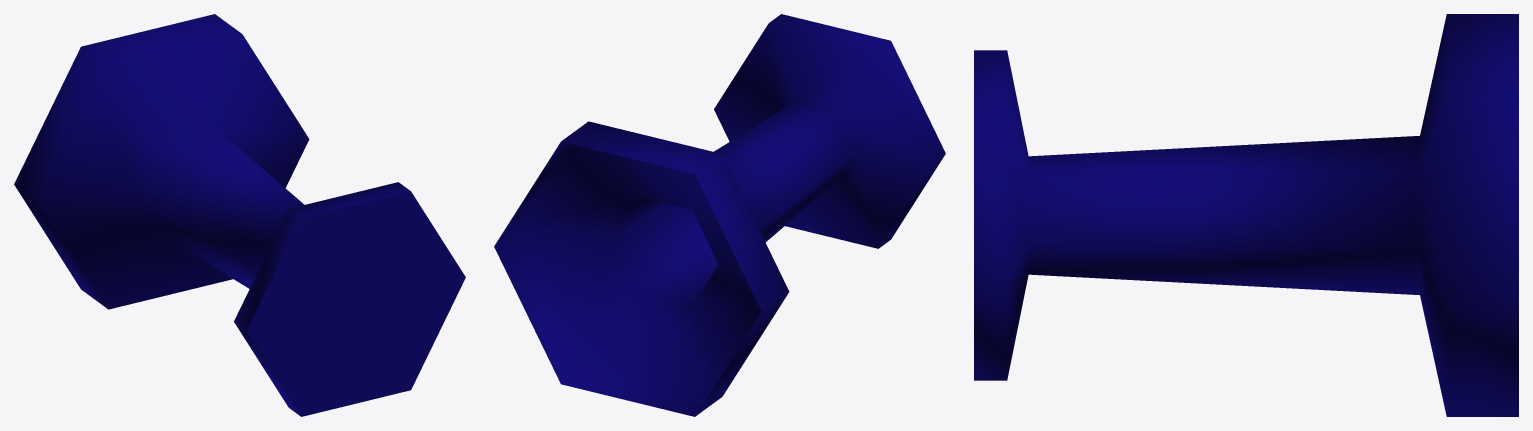
File: Pushpin_Blue.fbx
3 renders of one model, left to right at view 1: azimuth 30°, elevation 25°; view 2: azimuth 150°, elevation 25°; view 3: azimuth 270°, elevation 25°, orthographic. The views are drawn at different scales.
Parts seen in each view (by area): view 1: Pushpin_Blue; view 2: Pushpin_Blue; view 3: Pushpin_Blue.
Boxes of the visible parts, left/top/right/bottom form: Pushpin_Blue: left=14, top=14, right=465, bottom=416; Pushpin_Blue: left=494, top=14, right=945, bottom=416; Pushpin_Blue: left=974, top=14, right=1518, bottom=416.
Bounding box in the file's own units: 0.9 × 0.7794 × 1.21.
